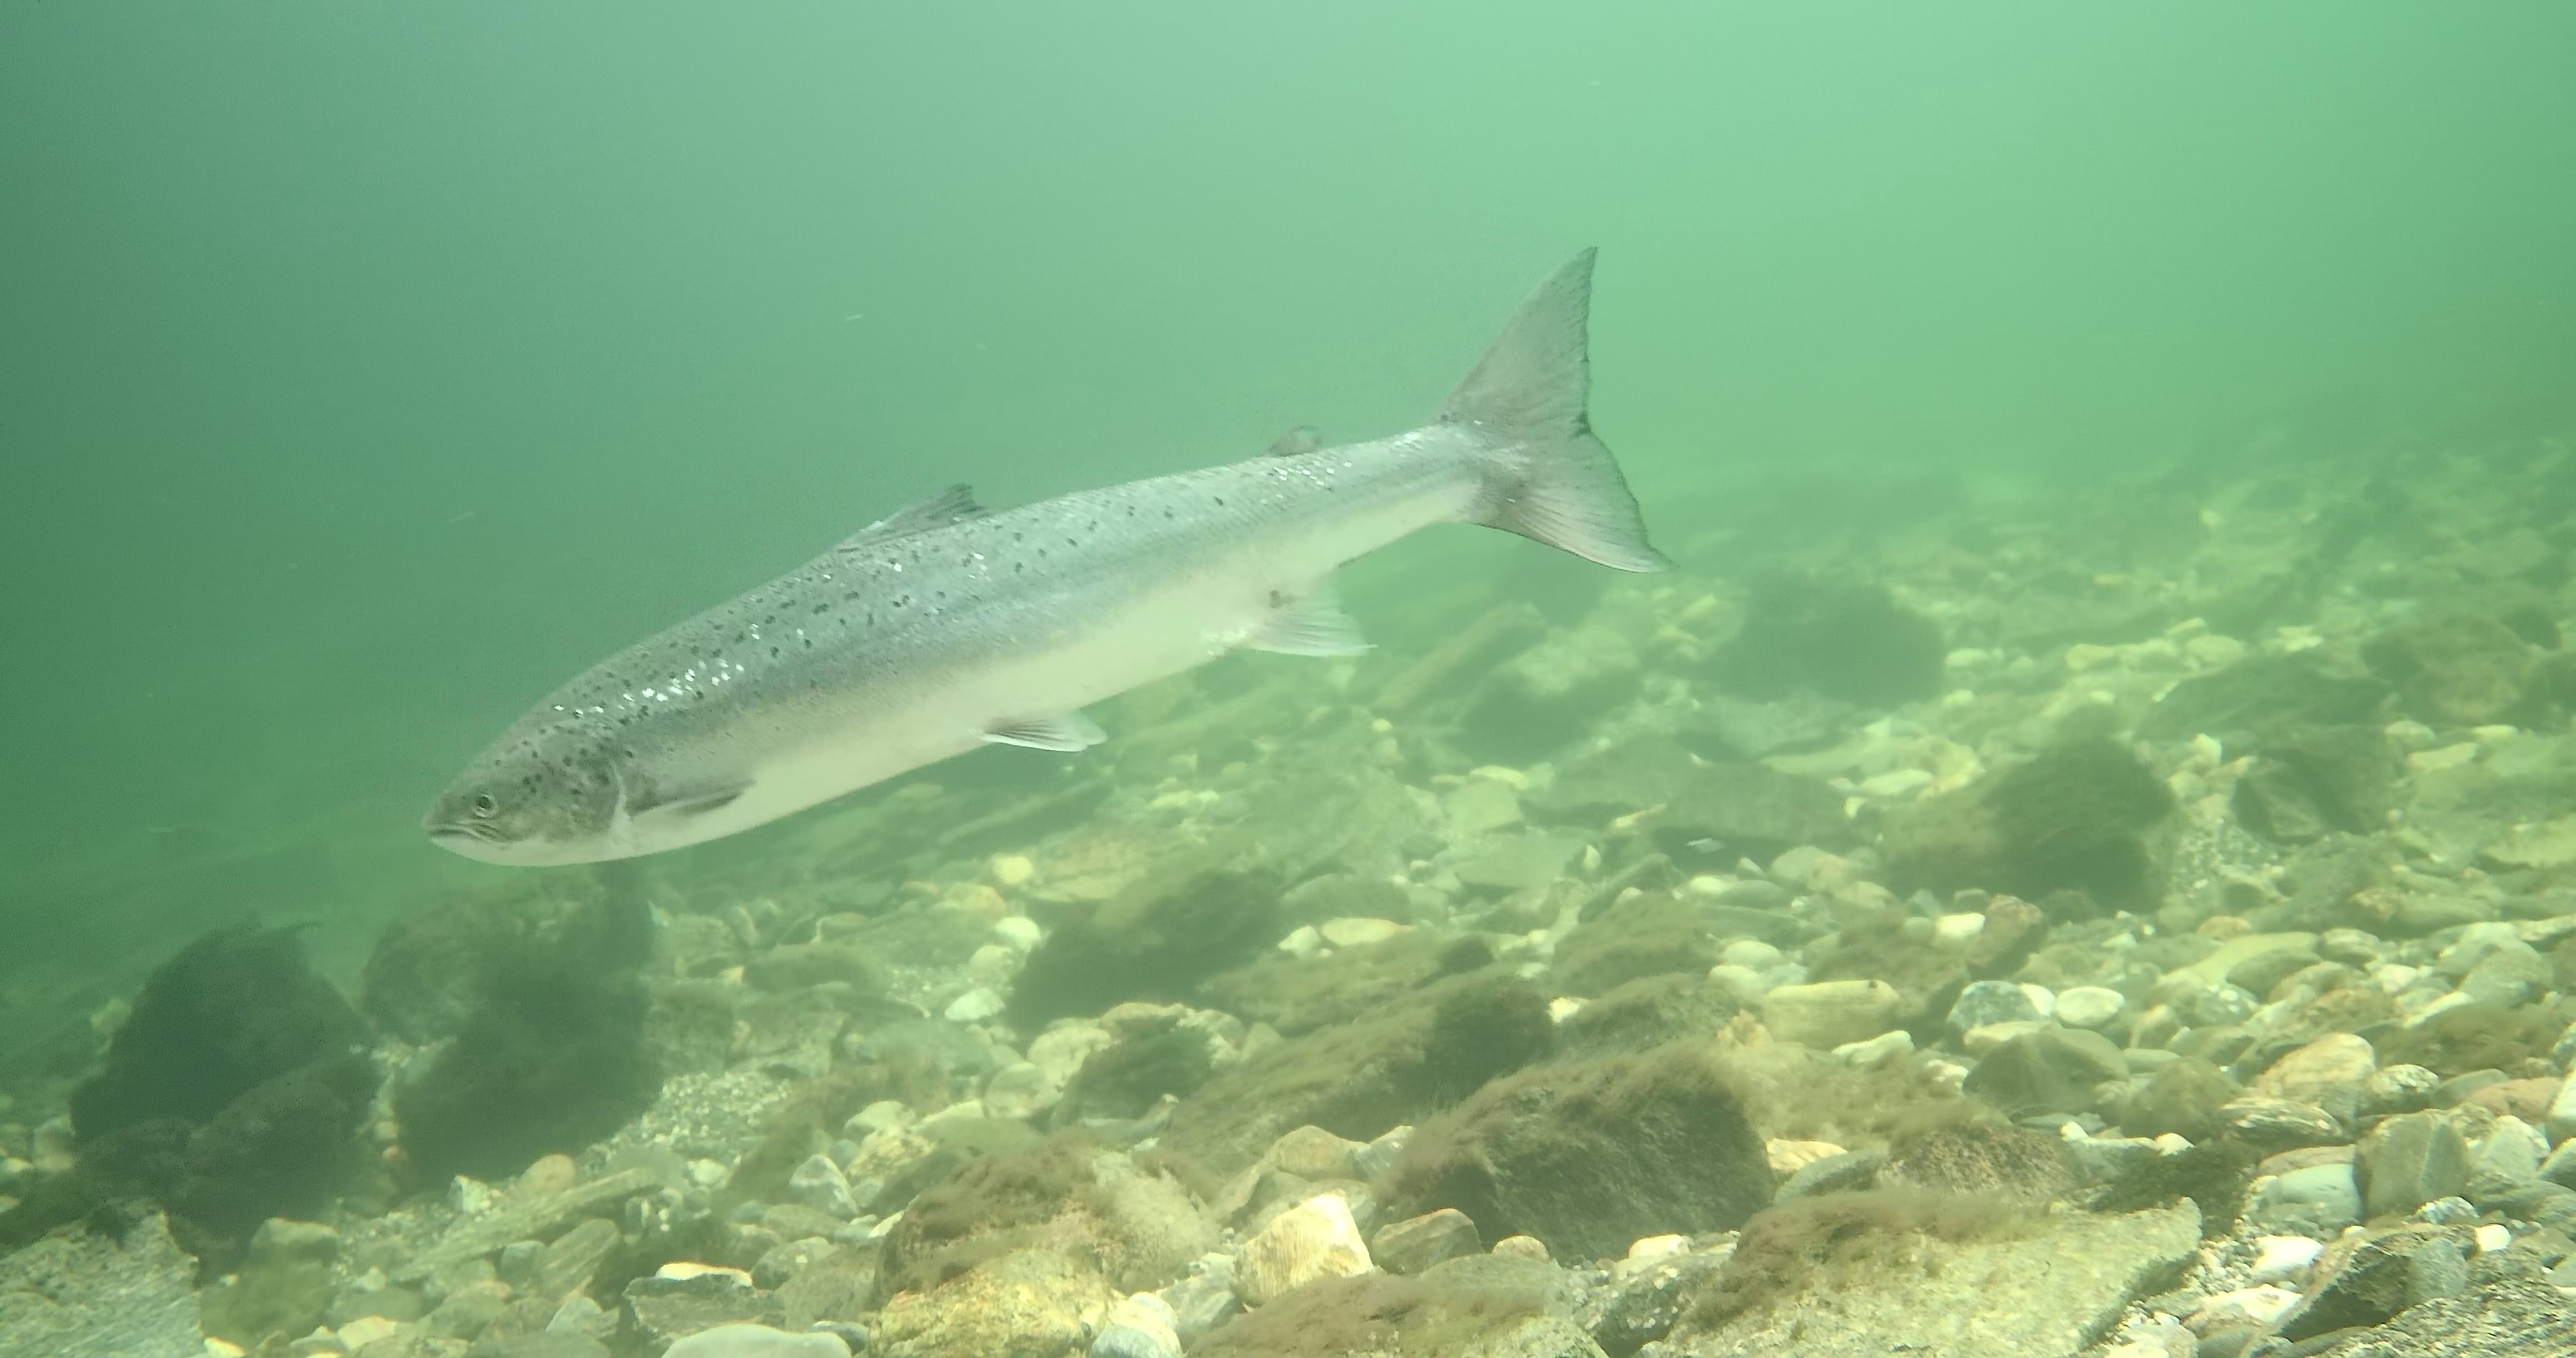salmon: (412, 242, 1670, 871)
